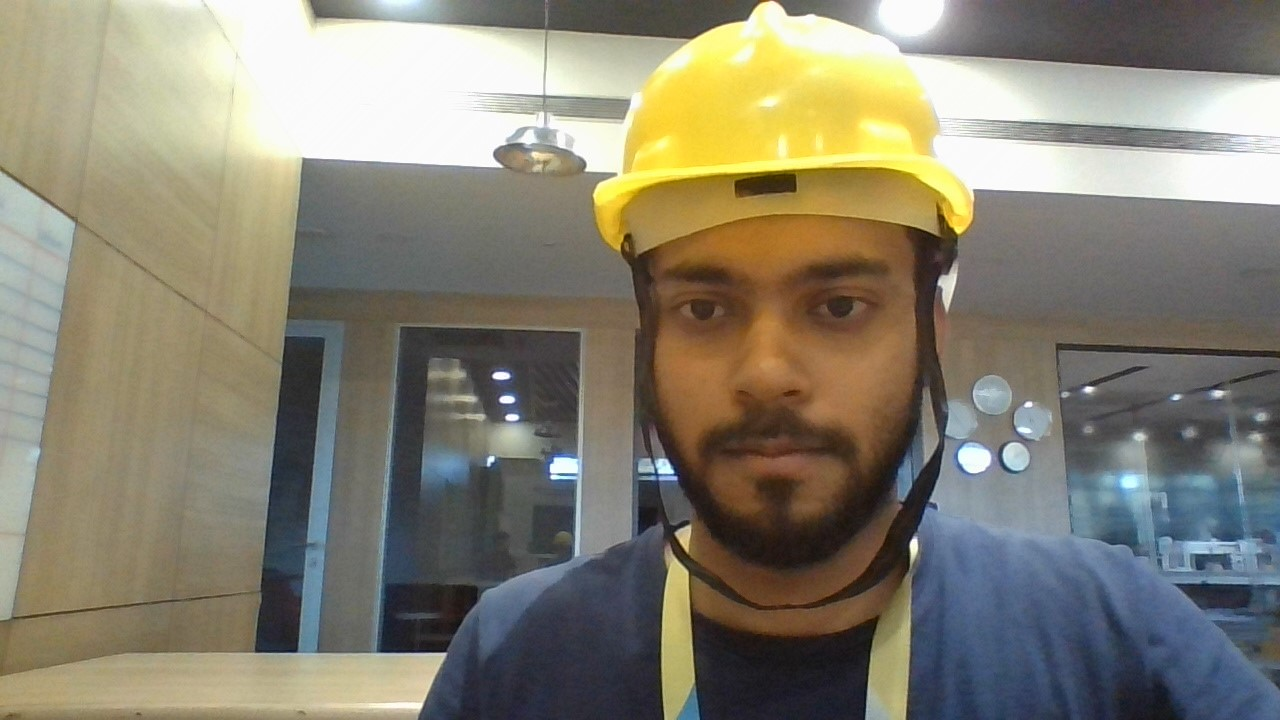Person_wearing_helmet: (595, 0, 959, 379)
